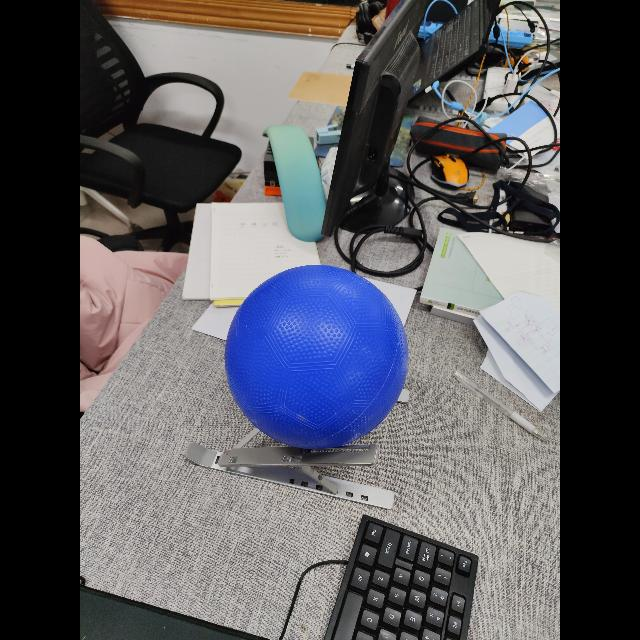B: (222, 263, 410, 451)
